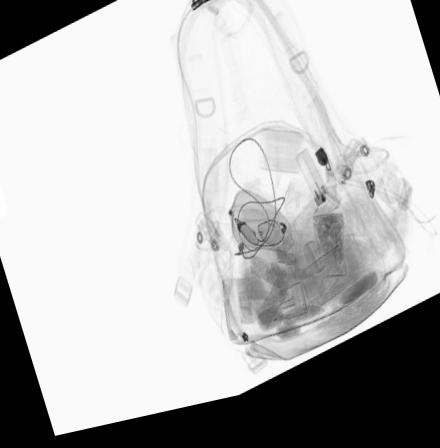Lighter: (295, 160, 332, 224)
